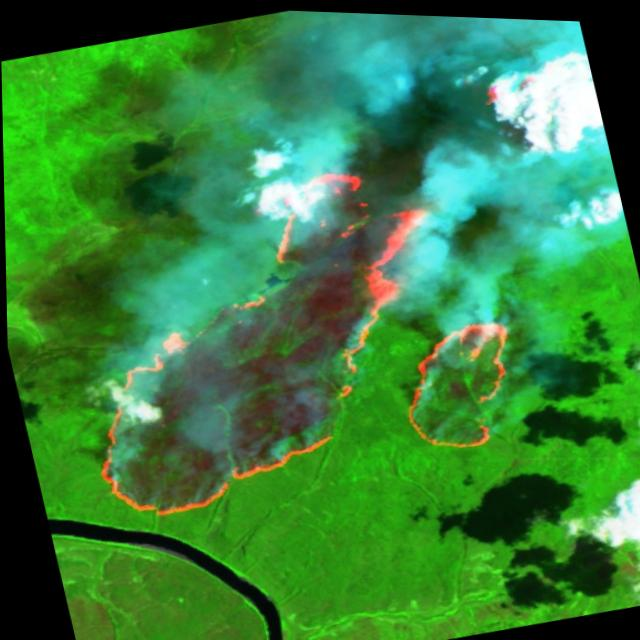fire: (35, 126, 545, 539)
